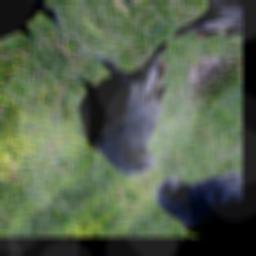Crow: (33, 12, 235, 185)
